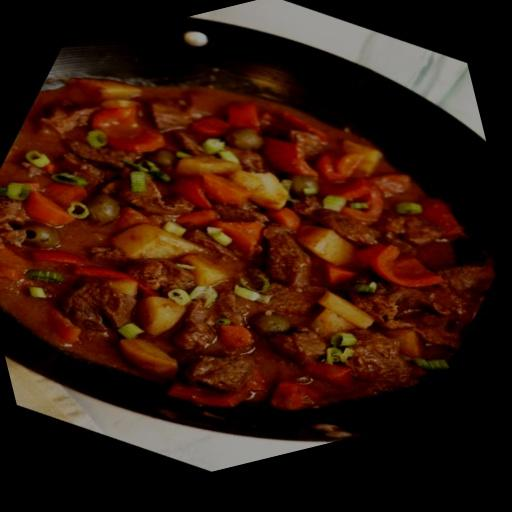pork caldereta: (0, 87, 484, 413)
